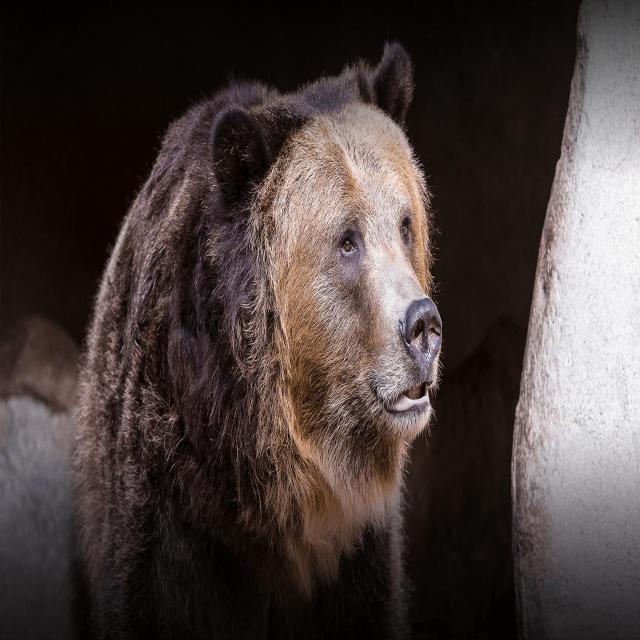Bear: (70, 40, 445, 640)
